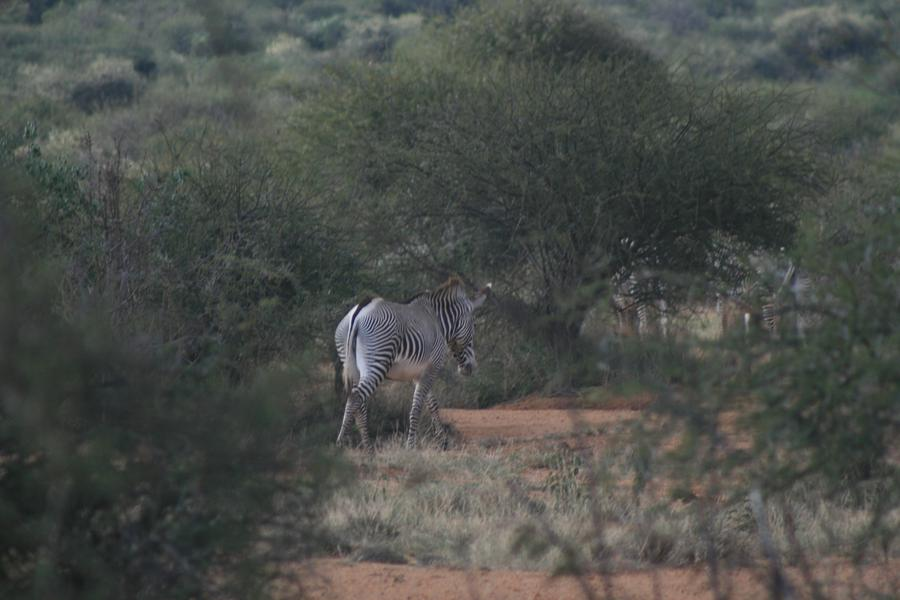zebra_grevys: (351, 286, 445, 378)
